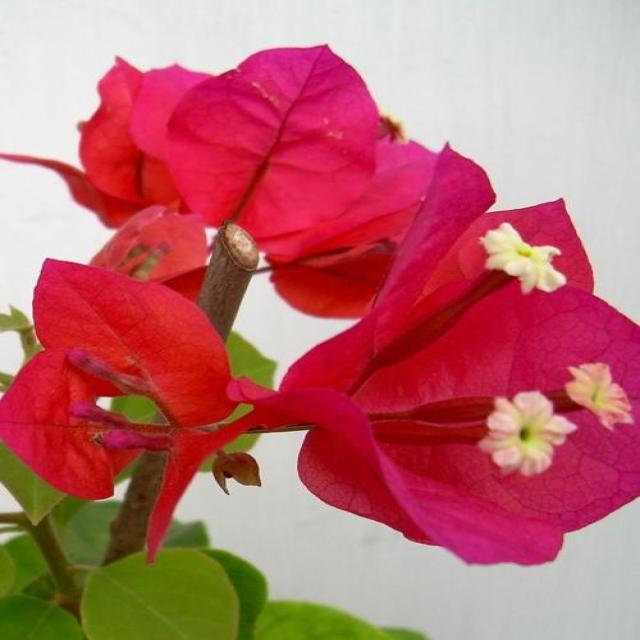bougainvillea: (28, 6, 640, 640)
